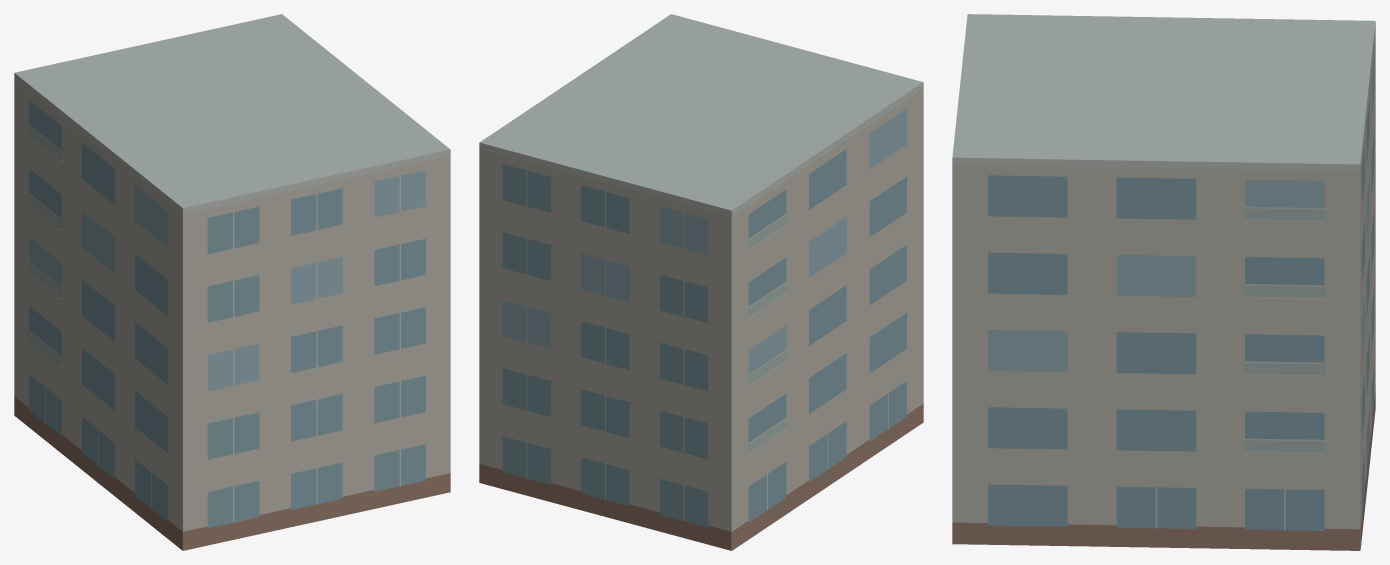
Rendered from survey-upis-32838144.glb.
3 renders of one model, left to right at view 1: azimuth 30°, elevation 25°; view 2: azimuth 150°, elevation 25°; view 3: azimuth 270°, elevation 25°, orthographic. The views are drawn at different scales.
Parts seen in each view (by area): view 1: survey-upis-32838144.tmp; view 2: survey-upis-32838144.tmp; view 3: survey-upis-32838144.tmp.
Part boxes in pixels (x1,y1,x2,y2): survey-upis-32838144.tmp: (14,14,450,550); survey-upis-32838144.tmp: (479,14,923,550); survey-upis-32838144.tmp: (952,14,1375,550).
Size of the model in its own units: 11.11 by 13.3 by 13.21.
